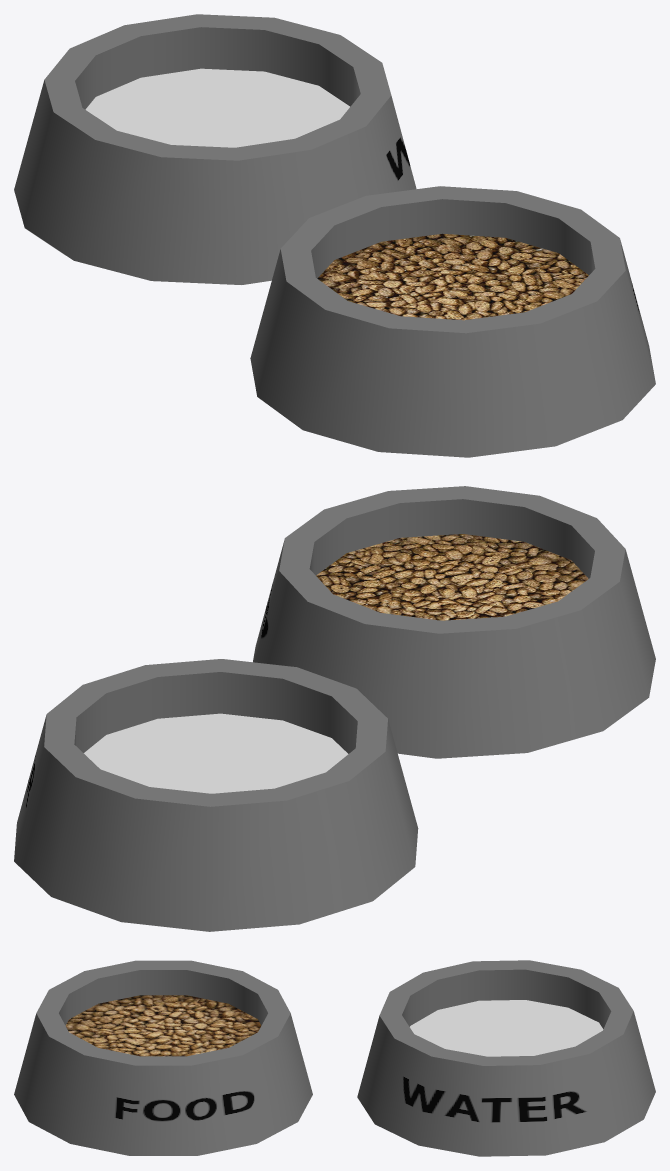
The model's file is Bowls Cat.glb.
3 views of the same model, one above another, from view 1: azimuth 30°, elevation 25°; view 2: azimuth 150°, elevation 25°; view 3: azimuth 270°, elevation 25° (orthographic). The views are drawn at different scales.
Visible parts, largest first — view 1: Bowls; view 2: Bowls; view 3: Bowls.
Boxes of the visible parts, x1,y1,x2,y2 form: Bowls: (14,14,655,457); Bowls: (14,486,655,931); Bowls: (14,960,655,1156).
Bounding box in the file's own units: 1.25 × 0.3828 × 2.74.
Materials: 2 (1 with a texture image).
